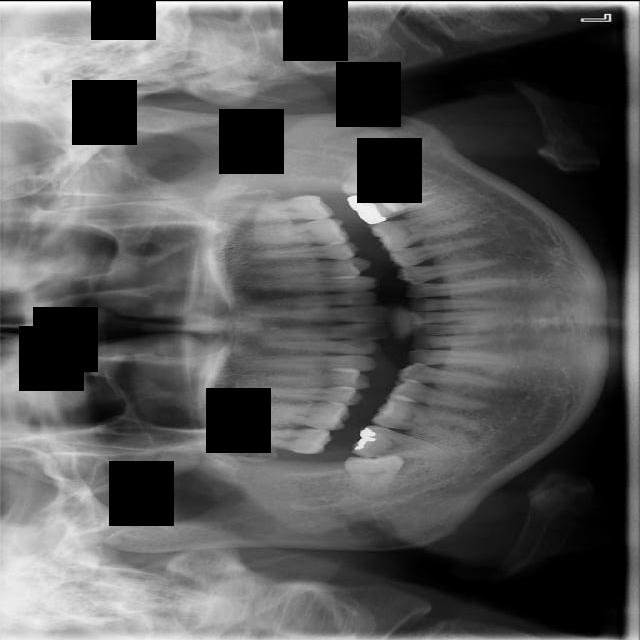52: (344, 180, 398, 235), (350, 417, 401, 466)
73: (378, 187, 446, 216), (586, 34, 595, 38)
BioHorizons Implant: (226, 194, 333, 221)
Biomet 3i Implant: (341, 154, 404, 198)
Blue Sky Bio Implant: (346, 188, 446, 225)
Caries: (195, 428, 333, 455)
Implant: (351, 423, 451, 463)
Keystone Dental Implant: (343, 453, 407, 500)
